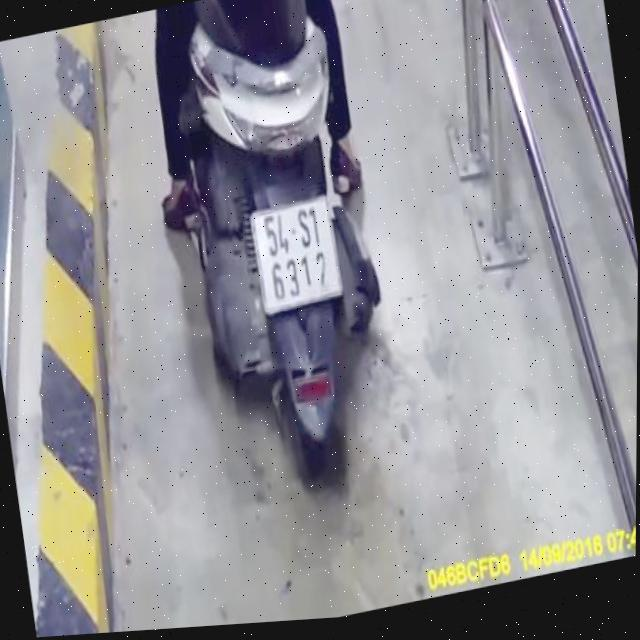motorcycle: (157, 0, 418, 496)
plate: (240, 188, 352, 323)
